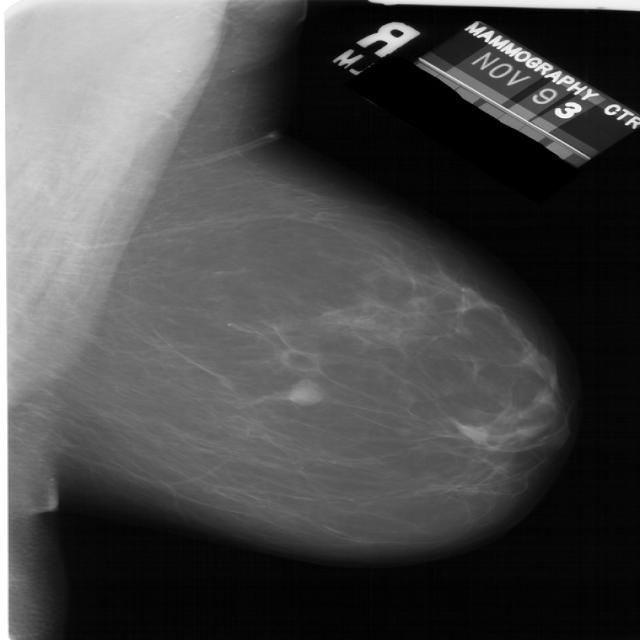tumour: (285, 378, 323, 405)
